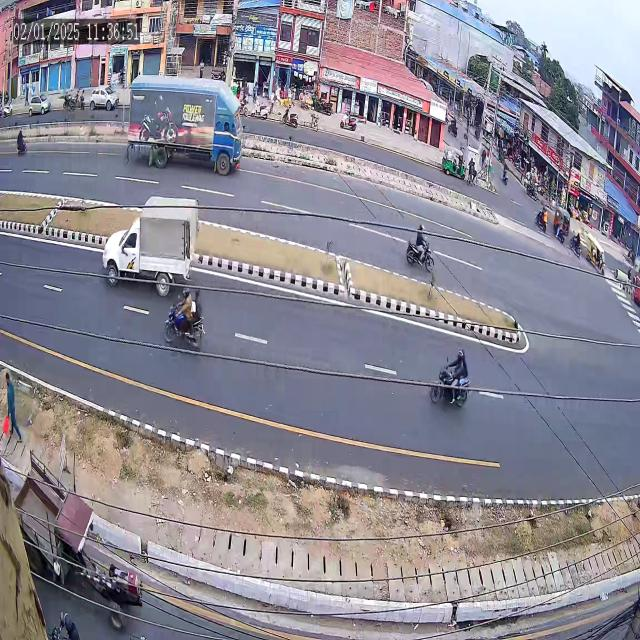auto: (582, 229, 610, 279)
motorcycle: (424, 330, 494, 429), (158, 286, 210, 350), (406, 210, 441, 281), (11, 124, 30, 160)
truck: (120, 66, 249, 182)
